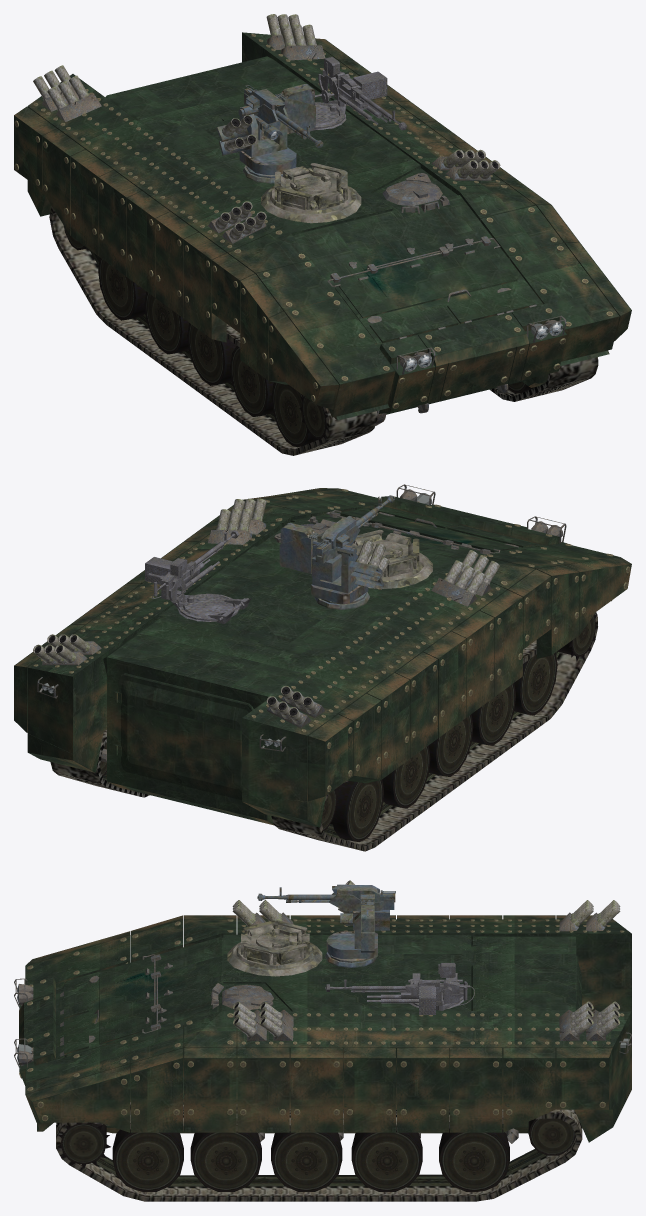
File: Tank_2.FBX
3 views of the same model, one above another, from view 1: azimuth 30°, elevation 25°; view 2: azimuth 150°, elevation 25°; view 3: azimuth 270°, elevation 25° (orthographic). The views are drawn at different scales.
Parts seen in each view (by area): view 1: Body, Wheel, Gun, Wheel_2, Wheel_4, Wheel_6, Wheel_3, Wheel_5, Wheel_1; view 2: Body, Wheel, Gun, Wheel_6, Wheel_2, Wheel_5, Wheel_4, Wheel_3, Wheel_1, Wheel_7; view 3: Body, Wheel, Gun, Wheel_2, Wheel_5, Wheel_4, Wheel_3, Wheel_6, Wheel_1, Wheel_7.
Part boxes in pixels (box(x1,y1,x2,y2)): Body: box(14, 14, 631, 425); Wheel: box(49, 206, 598, 455); Gun: box(216, 84, 323, 178); Wheel_2: box(271, 381, 536, 446); Wheel_4: box(187, 323, 236, 385); Wheel_6: box(98, 257, 146, 320); Wheel_3: box(230, 346, 273, 416); Wheel_5: box(144, 291, 188, 354); Wheel_1: box(299, 384, 543, 443); Body: box(14, 484, 631, 827); Wheel: box(50, 612, 597, 851); Gun: box(279, 495, 394, 604); Wheel_6: box(330, 779, 383, 841); Wheel_2: box(514, 652, 557, 715); Wheel_5: box(382, 745, 430, 808); Wheel_4: box(428, 714, 473, 776); Wheel_3: box(471, 683, 515, 745); Wheel_1: box(557, 614, 597, 661); Wheel_7: box(100, 743, 336, 830); Body: box(14, 900, 631, 1143); Wheel: box(56, 1102, 582, 1201); Gun: box(257, 880, 395, 962); Wheel_2: box(112, 1129, 183, 1191); Wheel_5: box(351, 1130, 422, 1191); Wheel_4: box(271, 1131, 342, 1191); Wheel_3: box(190, 1131, 261, 1191); Wheel_6: box(439, 1128, 509, 1191); Wheel_1: box(57, 1122, 110, 1168); Wheel_7: box(528, 1118, 575, 1155).
Bounding box in the file's own units: 100 × 76.67 × 182.
3 materials, 3 textured.
